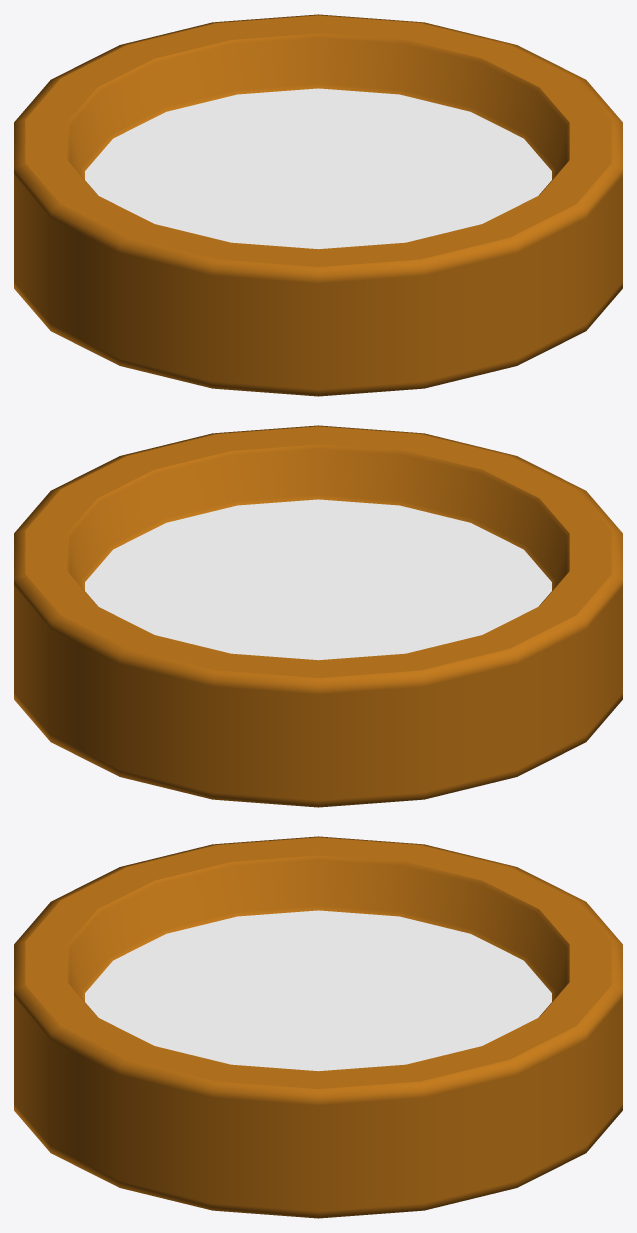
Rendered from BLightdisc.fbx.
The picture shows the model from 3 angles, top to bottom: view 1: azimuth 30°, elevation 25°; view 2: azimuth 150°, elevation 25°; view 3: azimuth 270°, elevation 25°; orthographic projection.
Parts seen in each view (by area): view 1: Cylinder014; view 2: Cylinder014; view 3: Cylinder014.
Boxes of the visible parts, bbox=[...] form: Cylinder014: bbox=[14, 14, 622, 396]; Cylinder014: bbox=[14, 425, 622, 807]; Cylinder014: bbox=[14, 836, 622, 1218].
Size of the model in its own units: 18.87 by 4.37 by 18.59.
